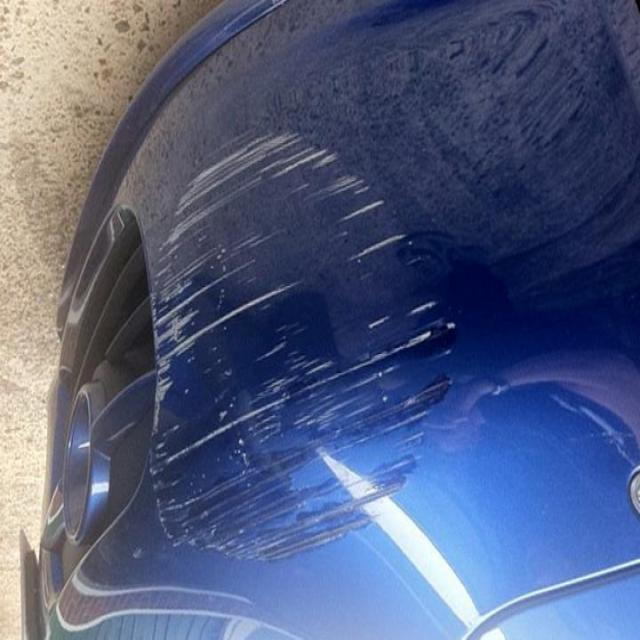scratch: (136, 104, 478, 604)
